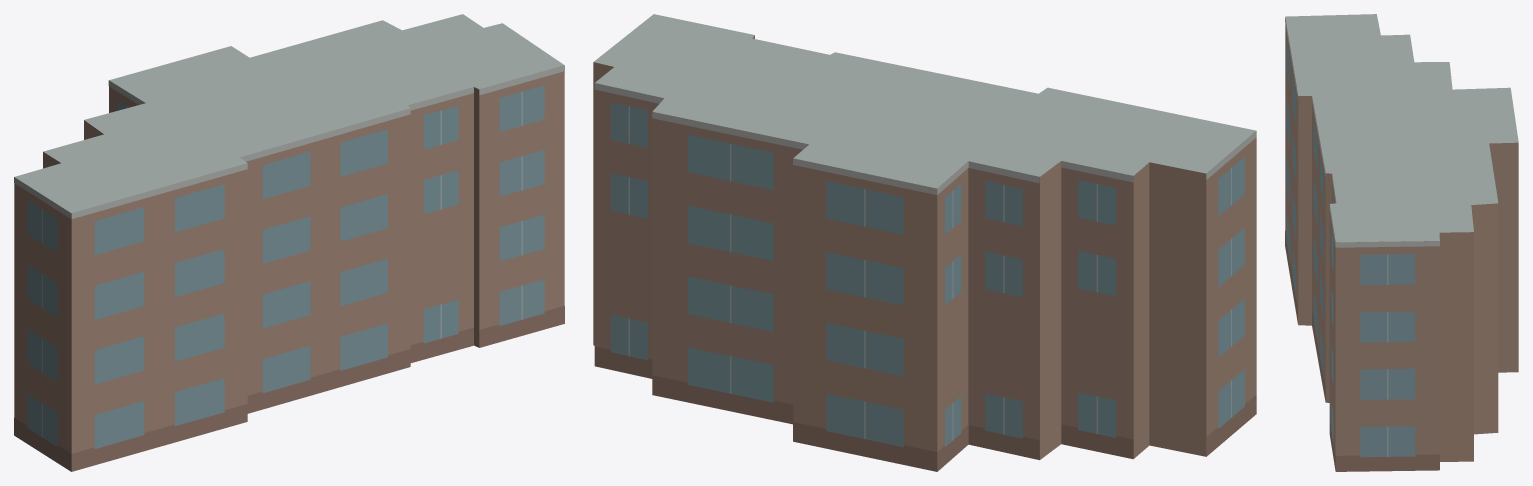
Rendered from survey-upis-32971425.glb.
3 renders of one model, left to right at view 1: azimuth 30°, elevation 25°; view 2: azimuth 150°, elevation 25°; view 3: azimuth 270°, elevation 25°, orthographic. The views are drawn at different scales.
Visible parts, largest first — view 1: survey-upis-32971425.tmp; view 2: survey-upis-32971425.tmp; view 3: survey-upis-32971425.tmp.
Part boxes in pixels (box(x1,y1,x2,y2)): survey-upis-32971425.tmp: box(14, 14, 564, 471); survey-upis-32971425.tmp: box(593, 14, 1256, 471); survey-upis-32971425.tmp: box(1285, 14, 1518, 471).
Bounding box in the file's own units: 22.43 × 10.5 × 9.7.
